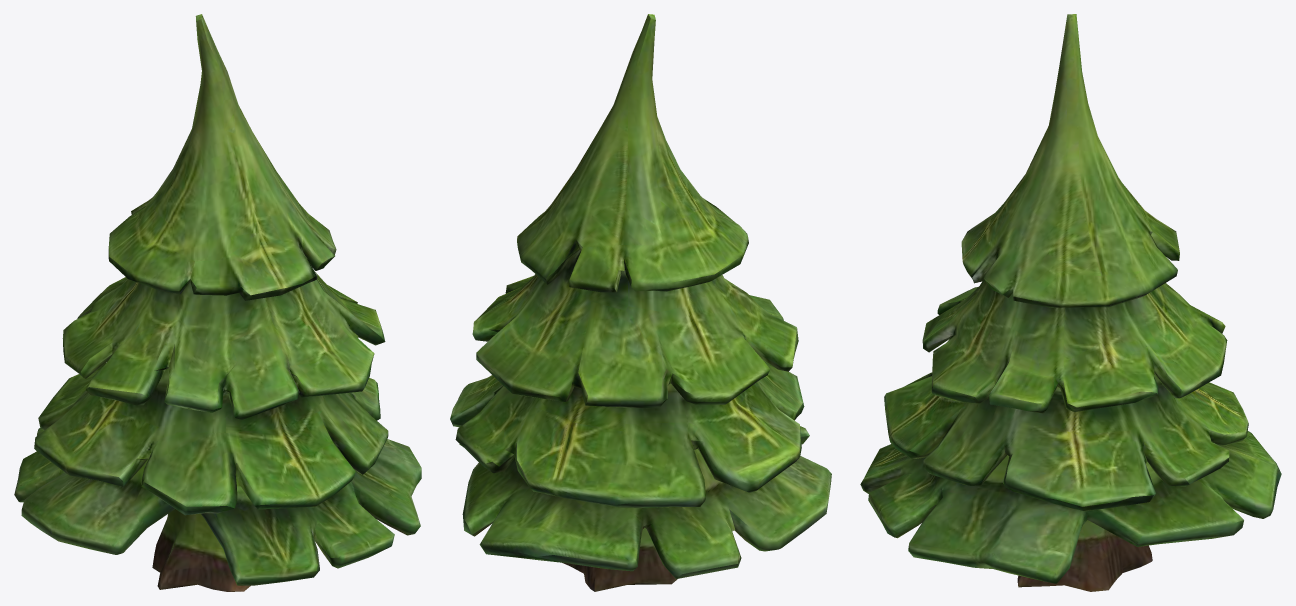
The model's file is tree_pine_lod0.glb.
The picture shows the model from 3 angles, left to right: view 1: azimuth 30°, elevation 25°; view 2: azimuth 150°, elevation 25°; view 3: azimuth 270°, elevation 25°; orthographic projection. The views are drawn at different scales.
Visible parts, largest first — view 1: tree_pine_lod0; view 2: tree_pine_lod0; view 3: tree_pine_lod0.
Part boxes in pixels (box(x1,y1,x2,y2)): tree_pine_lod0: box(14, 14, 421, 591); tree_pine_lod0: box(450, 14, 831, 591); tree_pine_lod0: box(860, 14, 1281, 591).
Size of the model in its own units: 4.8 by 6.98 by 4.92.
1 material, 1 textured.
